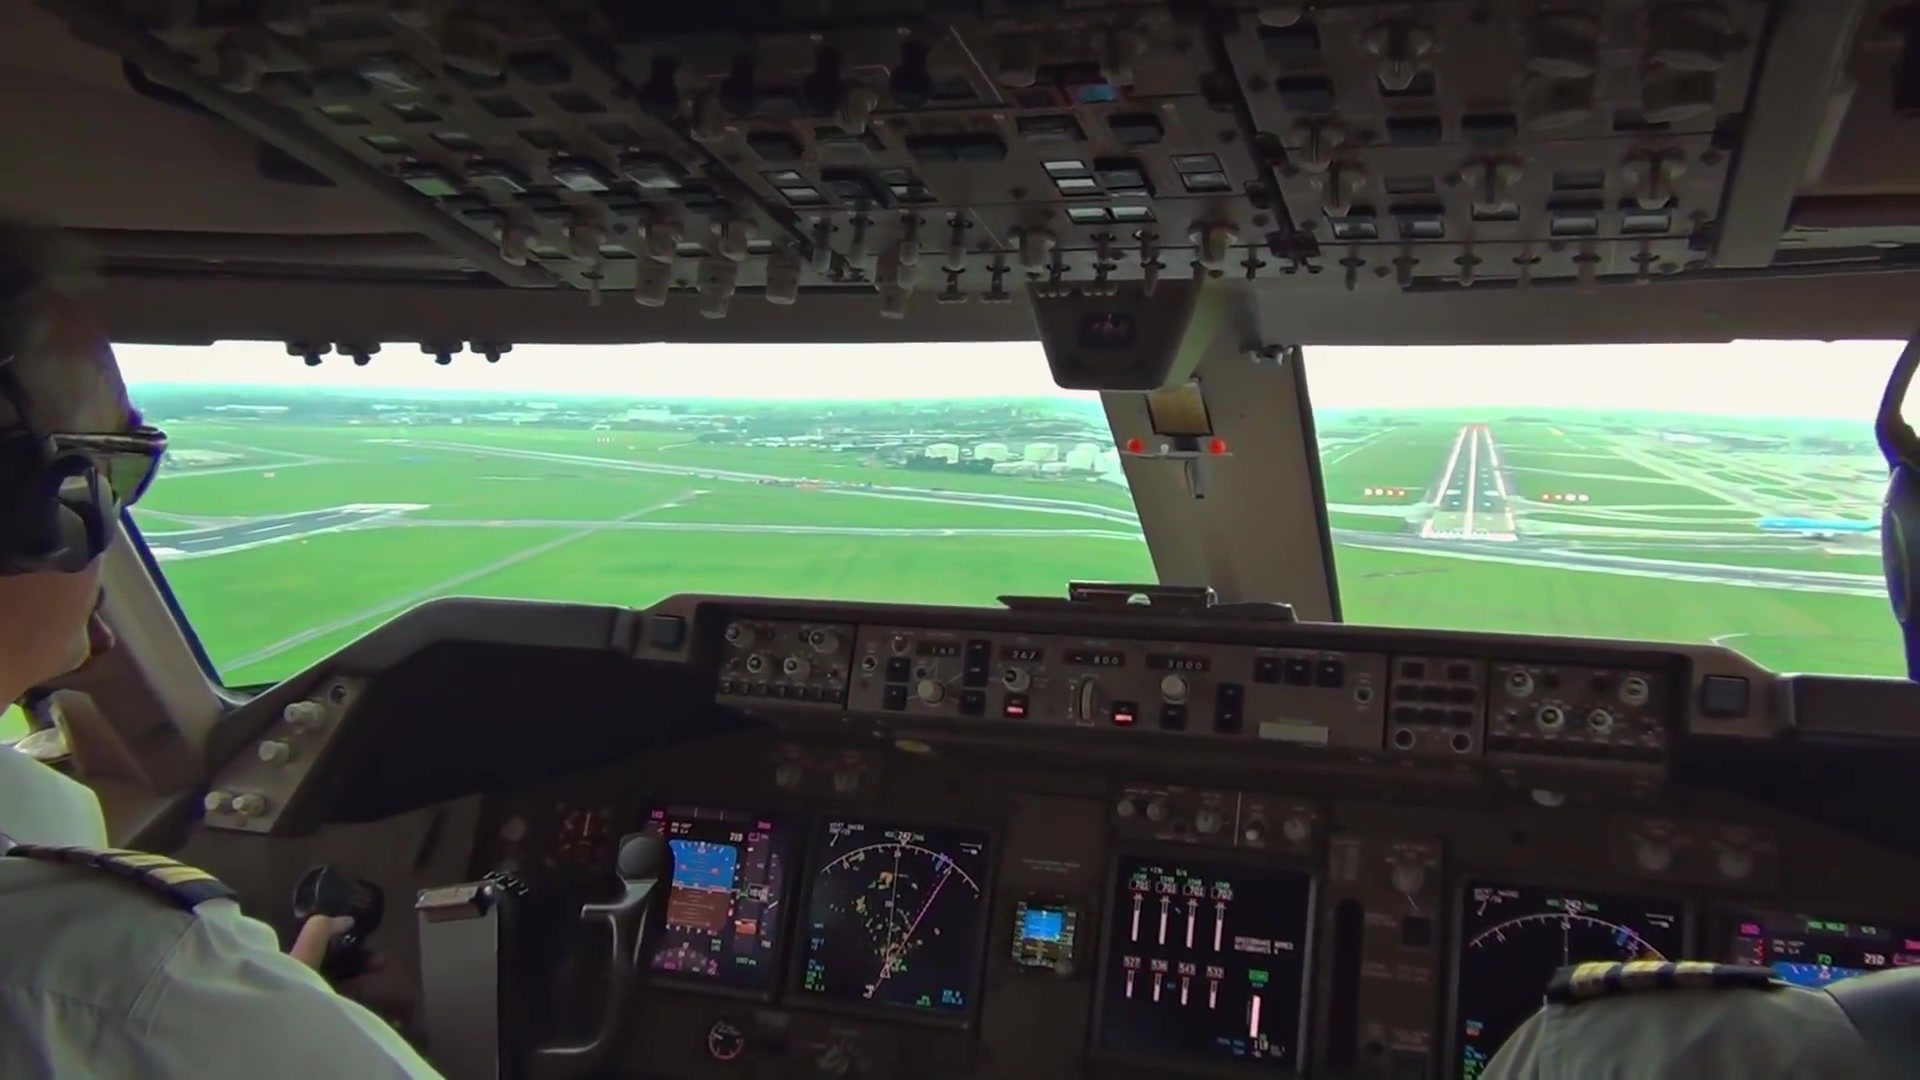runway: (146, 495, 436, 578), (1422, 422, 1522, 547)
